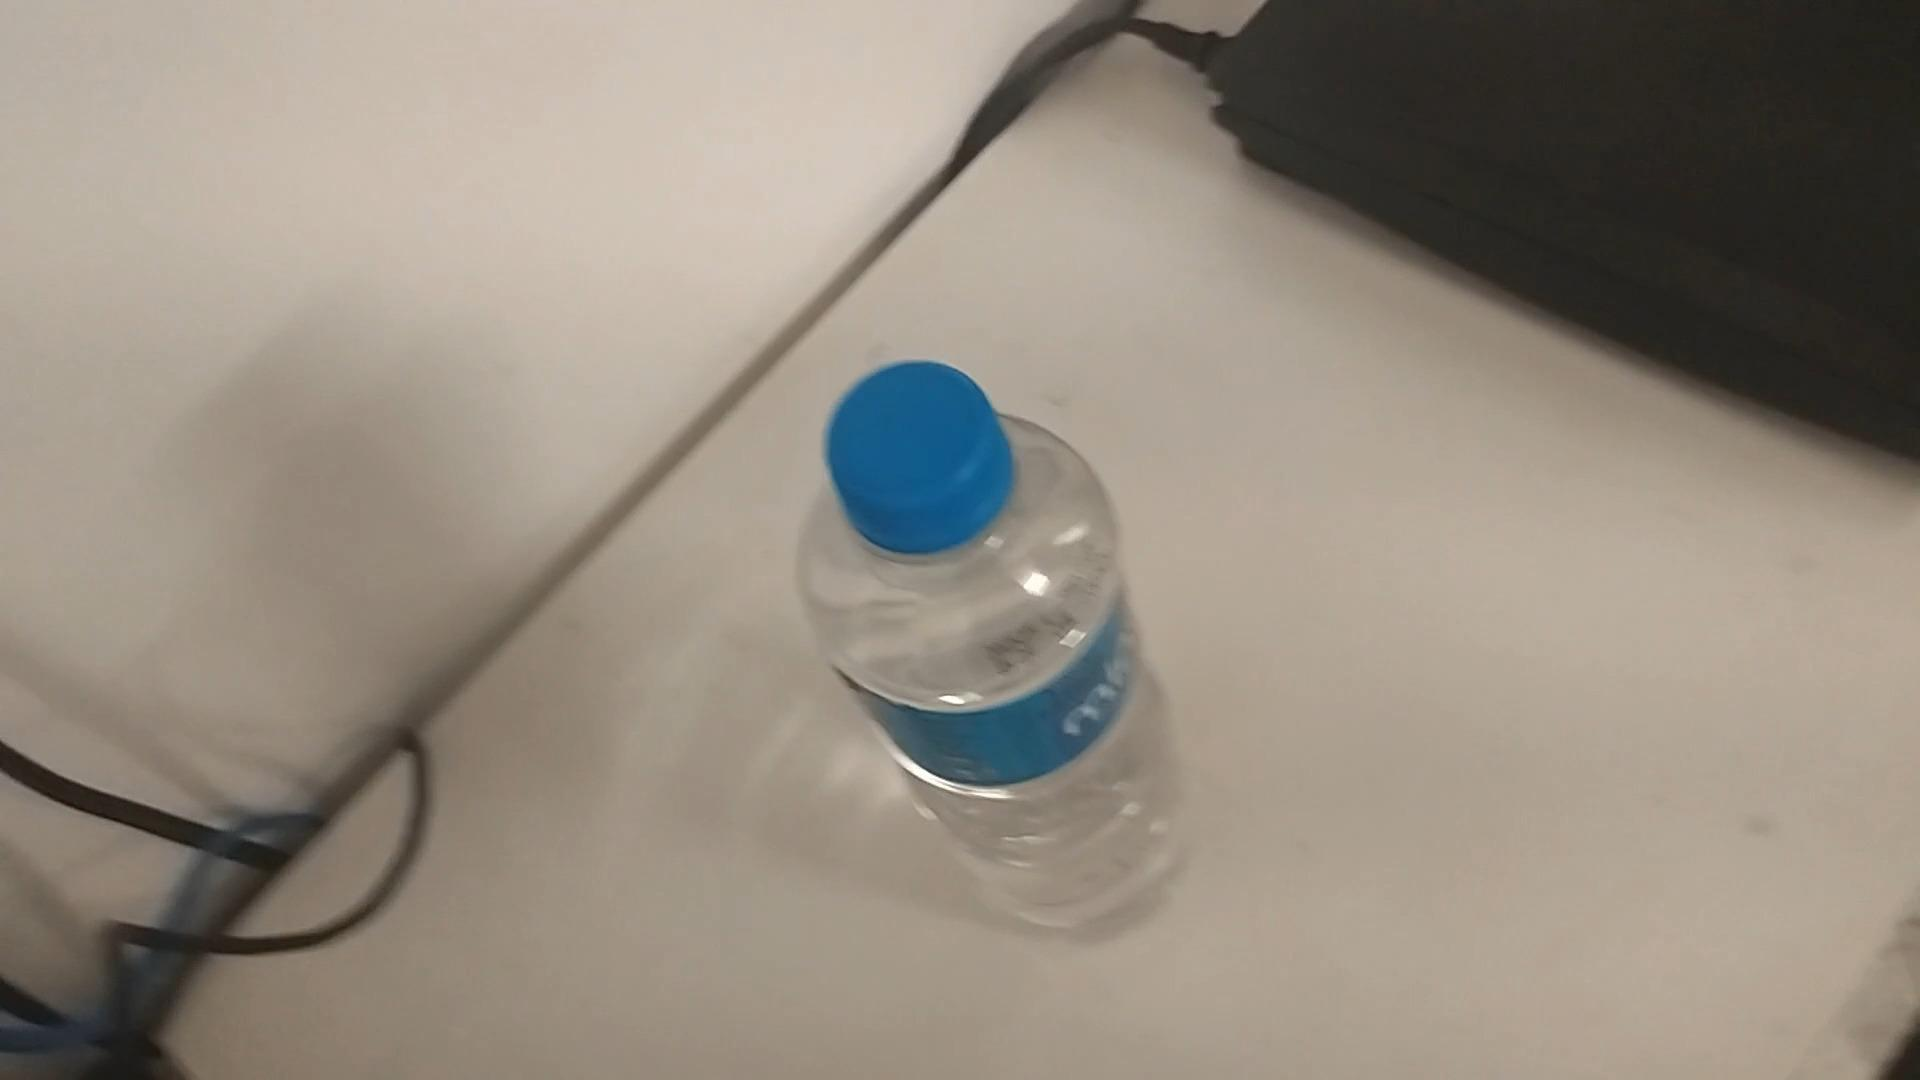agua: (800, 359, 1171, 930)
